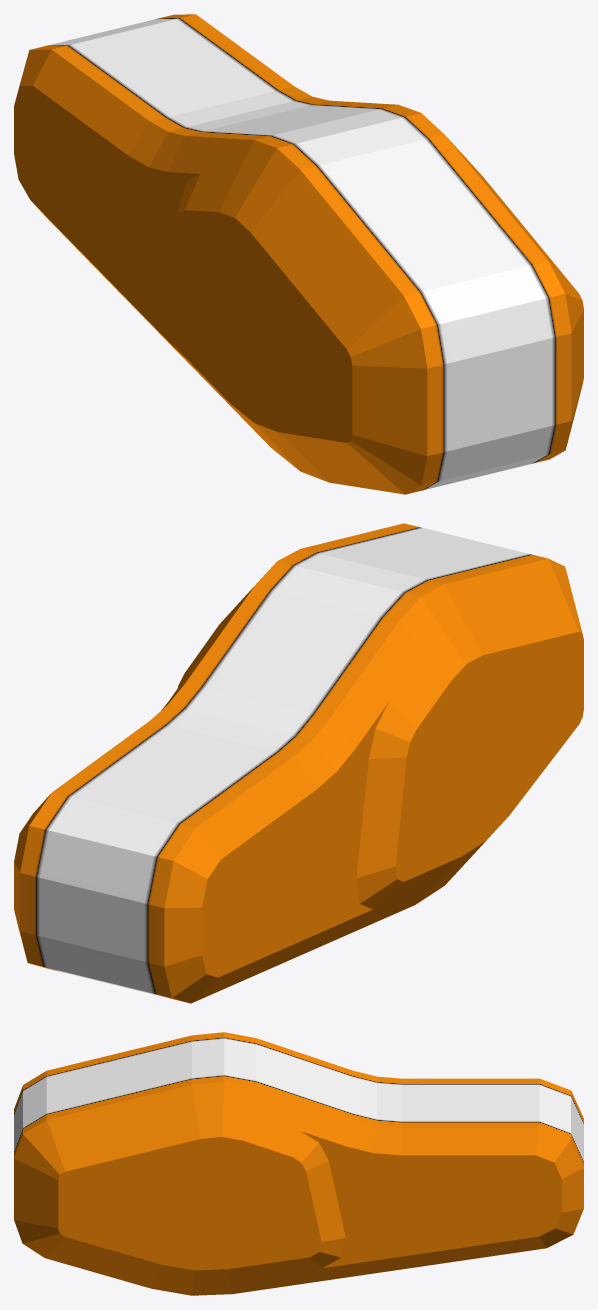
Rendered from JVRC-1-shape-6.dae.
3 renders of one model, top to bottom at view 1: azimuth 30°, elevation 25°; view 2: azimuth 150°, elevation 25°; view 3: azimuth 270°, elevation 25°, orthographic. The views are drawn at different scales.
Parts seen in each view (by area): view 1: root; view 2: root; view 3: root.
Part boxes in pixels (x1,y1,x2,y2): root: [14, 14, 583, 494]; root: [14, 523, 583, 1003]; root: [14, 1032, 583, 1295].
Bounding box in the file's own units: 10.6 × 13.38 × 32.26.
1 material, 1 textured.
